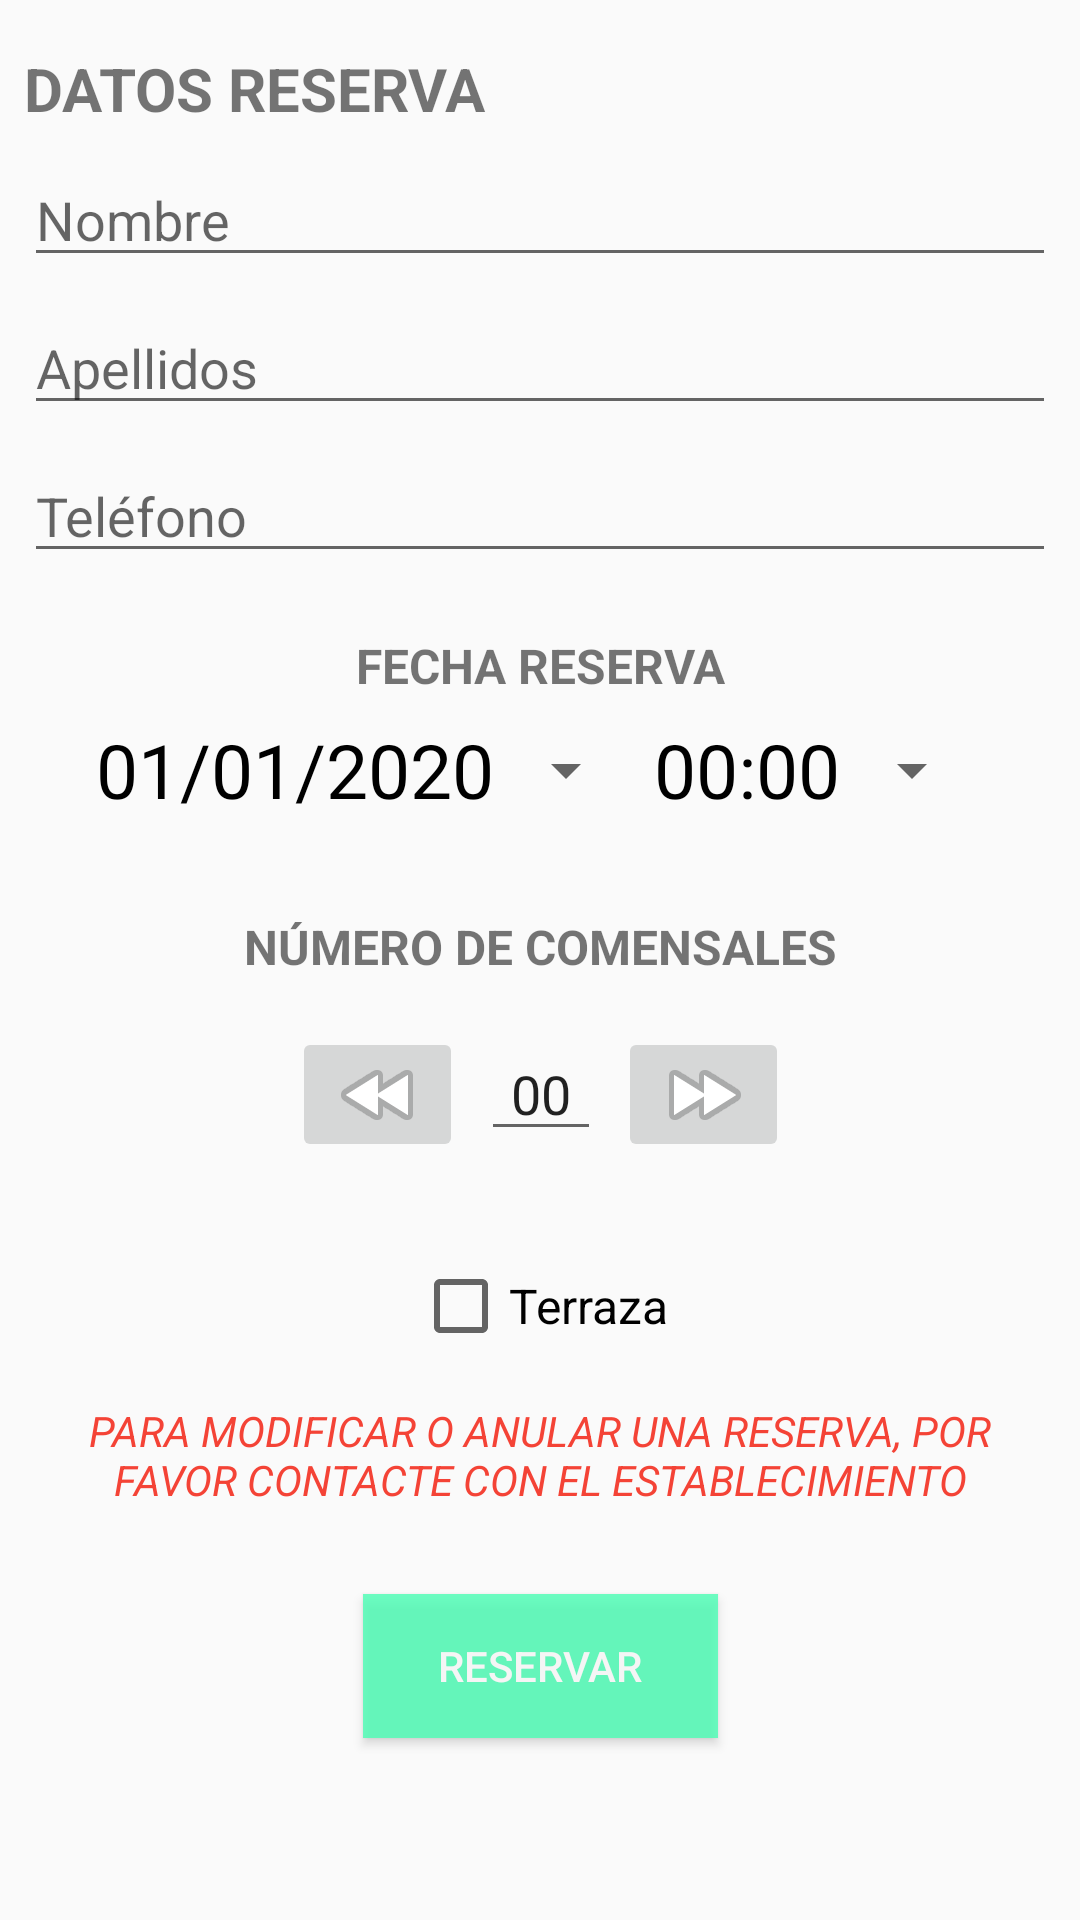

Icons on this 1080×1920 Android screen, each with the point to tap as [x,y]:
rew: [377,1094]
